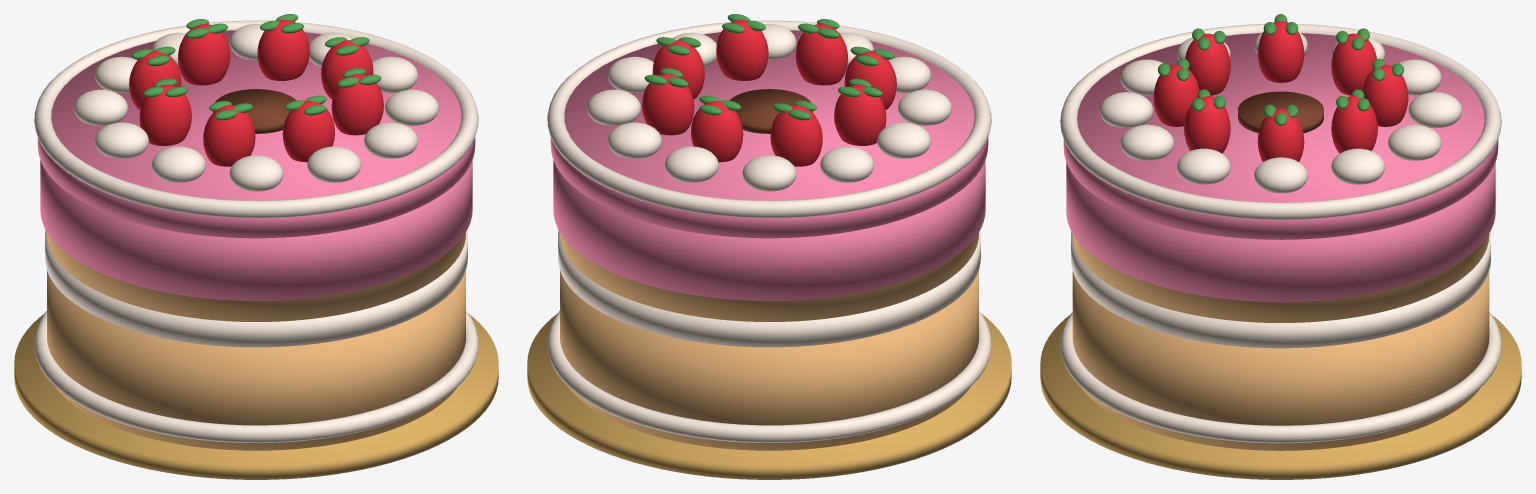
File: Pastel.glb
3 views of the same model, side by side, from view 1: azimuth 30°, elevation 25°; view 2: azimuth 150°, elevation 25°; view 3: azimuth 270°, elevation 25° (orthographic).
Parts seen in each view (by area): view 1: Bizcocho inferior, Cubierta superior rosa, Cobertura lateral, Base cartón dorado, Borde superior, Relleno de crema, Decoración inferior, Bizcocho superior, Fresa decorativa.001, Fresa decorativa.002, Fresa decorativa.007, Fresa decorativa.004 (+16 smaller); view 2: Bizcocho inferior, Cubierta superior rosa, Cobertura lateral, Base cartón dorado, Borde superior, Relleno de crema, Decoración inferior, Bizcocho superior, Fresa decorativa.007, Fresa decorativa.006, Fresa decorativa.001, Fresa decorativa.004 (+16 smaller); view 3: Bizcocho inferior, Cubierta superior rosa, Cobertura lateral, Base cartón dorado, Borde superior, Relleno de crema, Decoración inferior, Bizcocho superior, Fresa decorativa.004, Centro de chocolate, Fresa decorativa.001, Fresa decorativa.007 (+14 smaller).
Boxes of the visible parts, x1=… form: Bizcocho inferior: x1=47, y1=271, x2=465, y2=450; Cubierta superior rosa: x1=37, y1=30, x2=475, y2=238; Cobertura lateral: x1=40, y1=160, x2=472, y2=300; Base cartón dorado: x1=14, y1=313, x2=498, y2=479; Borde superior: x1=34, y1=20, x2=478, y2=218; Relleno de crema: x1=45, y1=229, x2=467, y2=347; Decoración inferior: x1=34, y1=310, x2=478, y2=442; Bizcocho superior: x1=47, y1=232, x2=465, y2=321; Fresa decorativa.001: x1=257, y1=19, x2=309, y2=80; Fresa decorativa.002: x1=178, y1=24, x2=230, y2=85; Fresa decorativa.007: x1=331, y1=74, x2=383, y2=135; Fresa decorativa.004: x1=139, y1=84, x2=191, y2=145; Bizcocho inferior: x1=560, y1=271, x2=978, y2=450; Cubierta superior rosa: x1=550, y1=30, x2=988, y2=238; Cobertura lateral: x1=553, y1=160, x2=985, y2=300; Base cartón dorado: x1=527, y1=313, x2=1011, y2=479; Borde superior: x1=547, y1=20, x2=991, y2=218; Relleno de crema: x1=558, y1=229, x2=980, y2=347; Decoración inferior: x1=547, y1=310, x2=991, y2=442; Bizcocho superior: x1=560, y1=232, x2=978, y2=321; Fresa decorativa.007: x1=716, y1=19, x2=768, y2=80; Fresa decorativa.006: x1=795, y1=24, x2=847, y2=85; Fresa decorativa.001: x1=642, y1=74, x2=694, y2=135; Fresa decorativa.004: x1=834, y1=84, x2=886, y2=145; Bizcocho inferior: x1=1072, y1=271, x2=1489, y2=450; Cubierta superior rosa: x1=1063, y1=33, x2=1498, y2=239; Cobertura lateral: x1=1066, y1=162, x2=1495, y2=302; Base cartón dorado: x1=1040, y1=315, x2=1521, y2=479; Borde superior: x1=1060, y1=23, x2=1501, y2=219; Relleno de crema: x1=1071, y1=231, x2=1490, y2=348; Decoración inferior: x1=1060, y1=312, x2=1501, y2=443; Bizcocho superior: x1=1072, y1=234, x2=1489, y2=322; Fresa decorativa.004: x1=1257, y1=21, x2=1304, y2=82; Centro de chocolate: x1=1238, y1=91, x2=1323, y2=133; Fresa decorativa.001: x1=1331, y1=96, x2=1377, y2=153; Fresa decorativa.007: x1=1184, y1=96, x2=1230, y2=153.
Bounding box in the file's own units: 1.34 × 0.9595 × 1.34.
